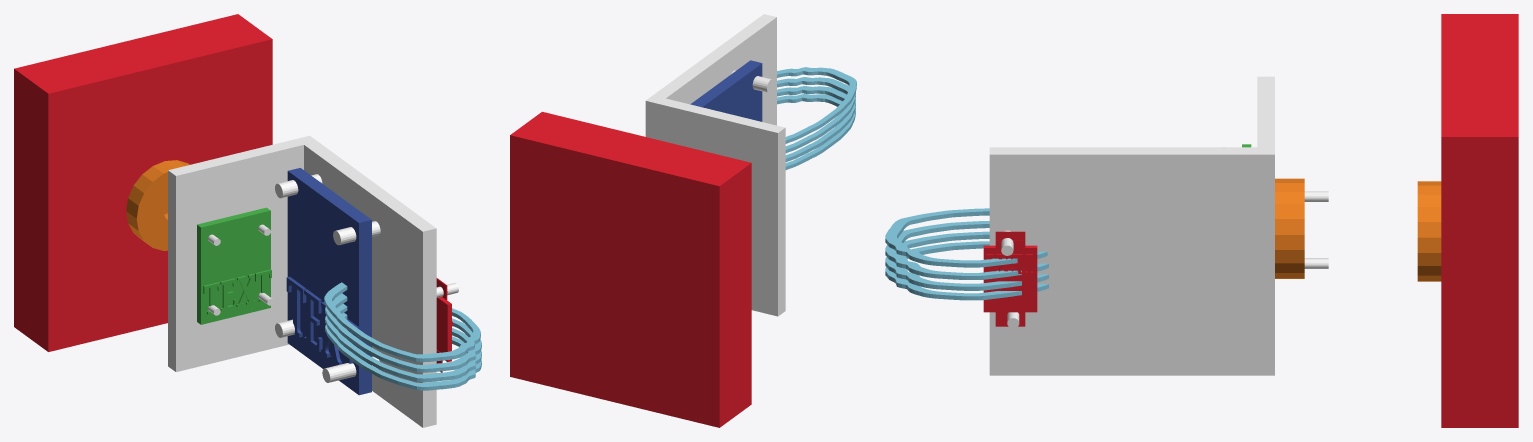
File: tinker.obj
3 views of the same model, side by side, from view 1: azimuth 30°, elevation 25°; view 2: azimuth 150°, elevation 25°; view 3: azimuth 270°, elevation 25° (orthographic). The views are drawn at different scales.
Parts seen in each view (by area): view 1: group_0_15277357, group_0_16448250, group_0_3888547, group_0_4634441, group_0_8768998, group_0_16089887; view 2: group_0_15277357, group_0_16448250, group_0_8768998, group_0_3888547; view 3: group_0_16448250, group_0_15277357, group_0_8768998, group_0_16089887.
Boxes of the visible parts, x1=… form: group_0_15277357: x1=14, y1=14, x2=452, y2=372; group_0_16448250: x1=168, y1=135, x2=458, y2=427; group_0_3888547: x1=286, y1=168, x2=371, y2=395; group_0_4634441: x1=197, y1=207, x2=271, y2=324; group_0_8768998: x1=324, y1=282, x2=481, y2=390; group_0_16089887: x1=126, y1=160, x2=189, y2=250; group_0_15277357: x1=510, y1=111, x2=751, y2=427; group_0_16448250: x1=645, y1=14, x2=785, y2=316; group_0_8768998: x1=777, y1=67, x2=856, y2=169; group_0_3888547: x1=690, y1=60, x2=762, y2=121; group_0_16448250: x1=989, y1=76, x2=1328, y2=375; group_0_15277357: x1=983, y1=14, x2=1518, y2=427; group_0_8768998: x1=885, y1=208, x2=1048, y2=300; group_0_16089887: x1=1275, y1=178, x2=1441, y2=281.
Size of the model in its own units: 49 by 54 by 107.
